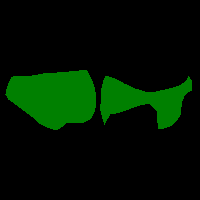mutande: (5, 69, 96, 130), (100, 75, 192, 129)
